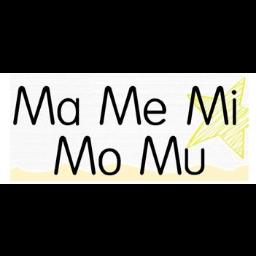m: (8, 83, 56, 125)
